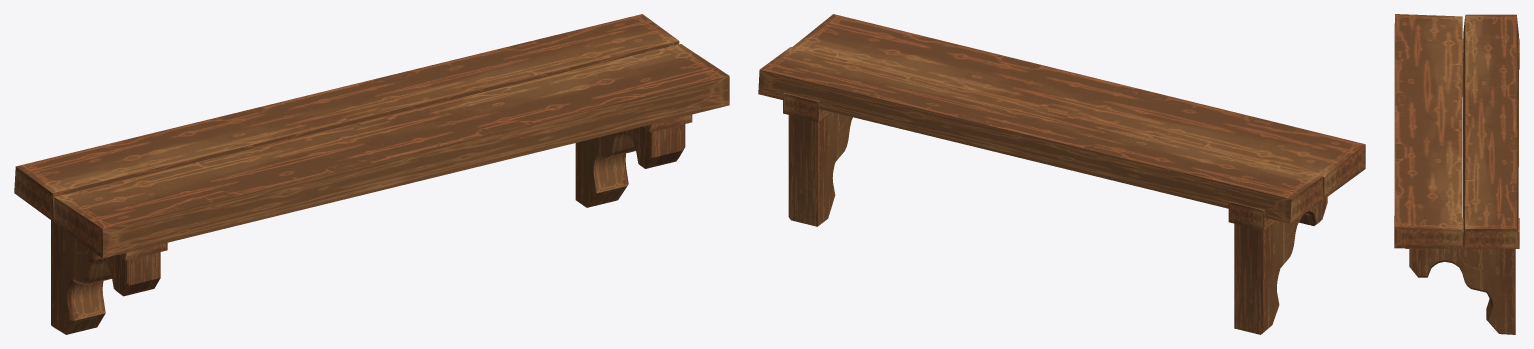
File: Shelf_Simple.gltf
The picture shows the model from 3 angles, left to right: view 1: azimuth 30°, elevation 25°; view 2: azimuth 150°, elevation 25°; view 3: azimuth 270°, elevation 25°; orthographic projection. The views are drawn at different scales.
Parts seen in each view (by area): view 1: Shelf_Simple; view 2: Shelf_Simple; view 3: Shelf_Simple.
Part boxes in pixels (<box>): Shelf_Simple: <box>14,14,729,334</box>; Shelf_Simple: <box>758,14,1365,334</box>; Shelf_Simple: <box>1394,14,1519,334</box>.
Size of the model in its own units: 1.18 by 0.3087 by 0.2923.
Materials: 1 (1 with a texture image).
